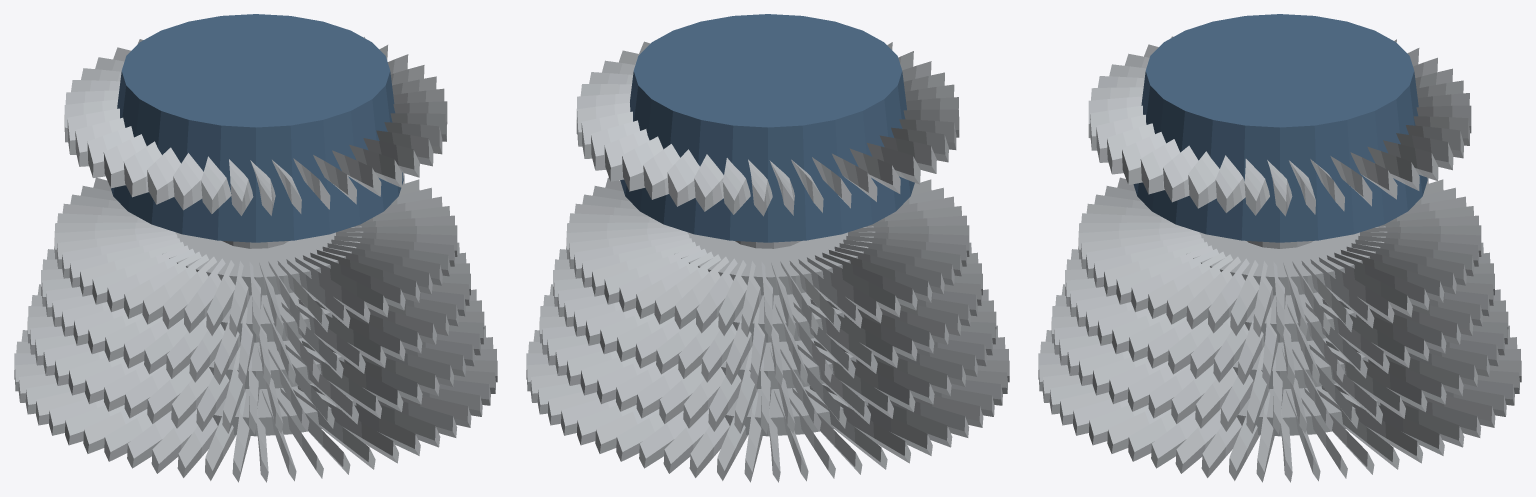
Rendered from turbinerotor_basic.glb.
3 renders of one model, left to right at view 1: azimuth 30°, elevation 25°; view 2: azimuth 150°, elevation 25°; view 3: azimuth 270°, elevation 25°, orthographic.
Visible parts, largest first — view 1: turbinerotor_basic; view 2: turbinerotor_basic; view 3: turbinerotor_basic.
Part boxes in pixels (box(x1,y1,x2,y2)): turbinerotor_basic: box(14, 14, 497, 482); turbinerotor_basic: box(526, 14, 1009, 482); turbinerotor_basic: box(1038, 14, 1521, 482).
Bounding box in the file's own units: 0.288 × 0.224 × 0.288.
